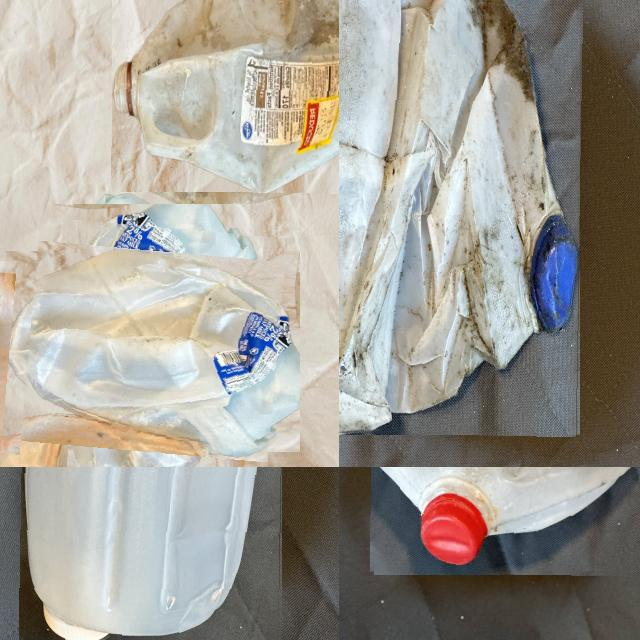milk-jug: (339, 0, 583, 436), (24, 222, 282, 467), (21, 467, 285, 640), (111, 0, 339, 193), (372, 467, 640, 576), (0, 255, 83, 467)
